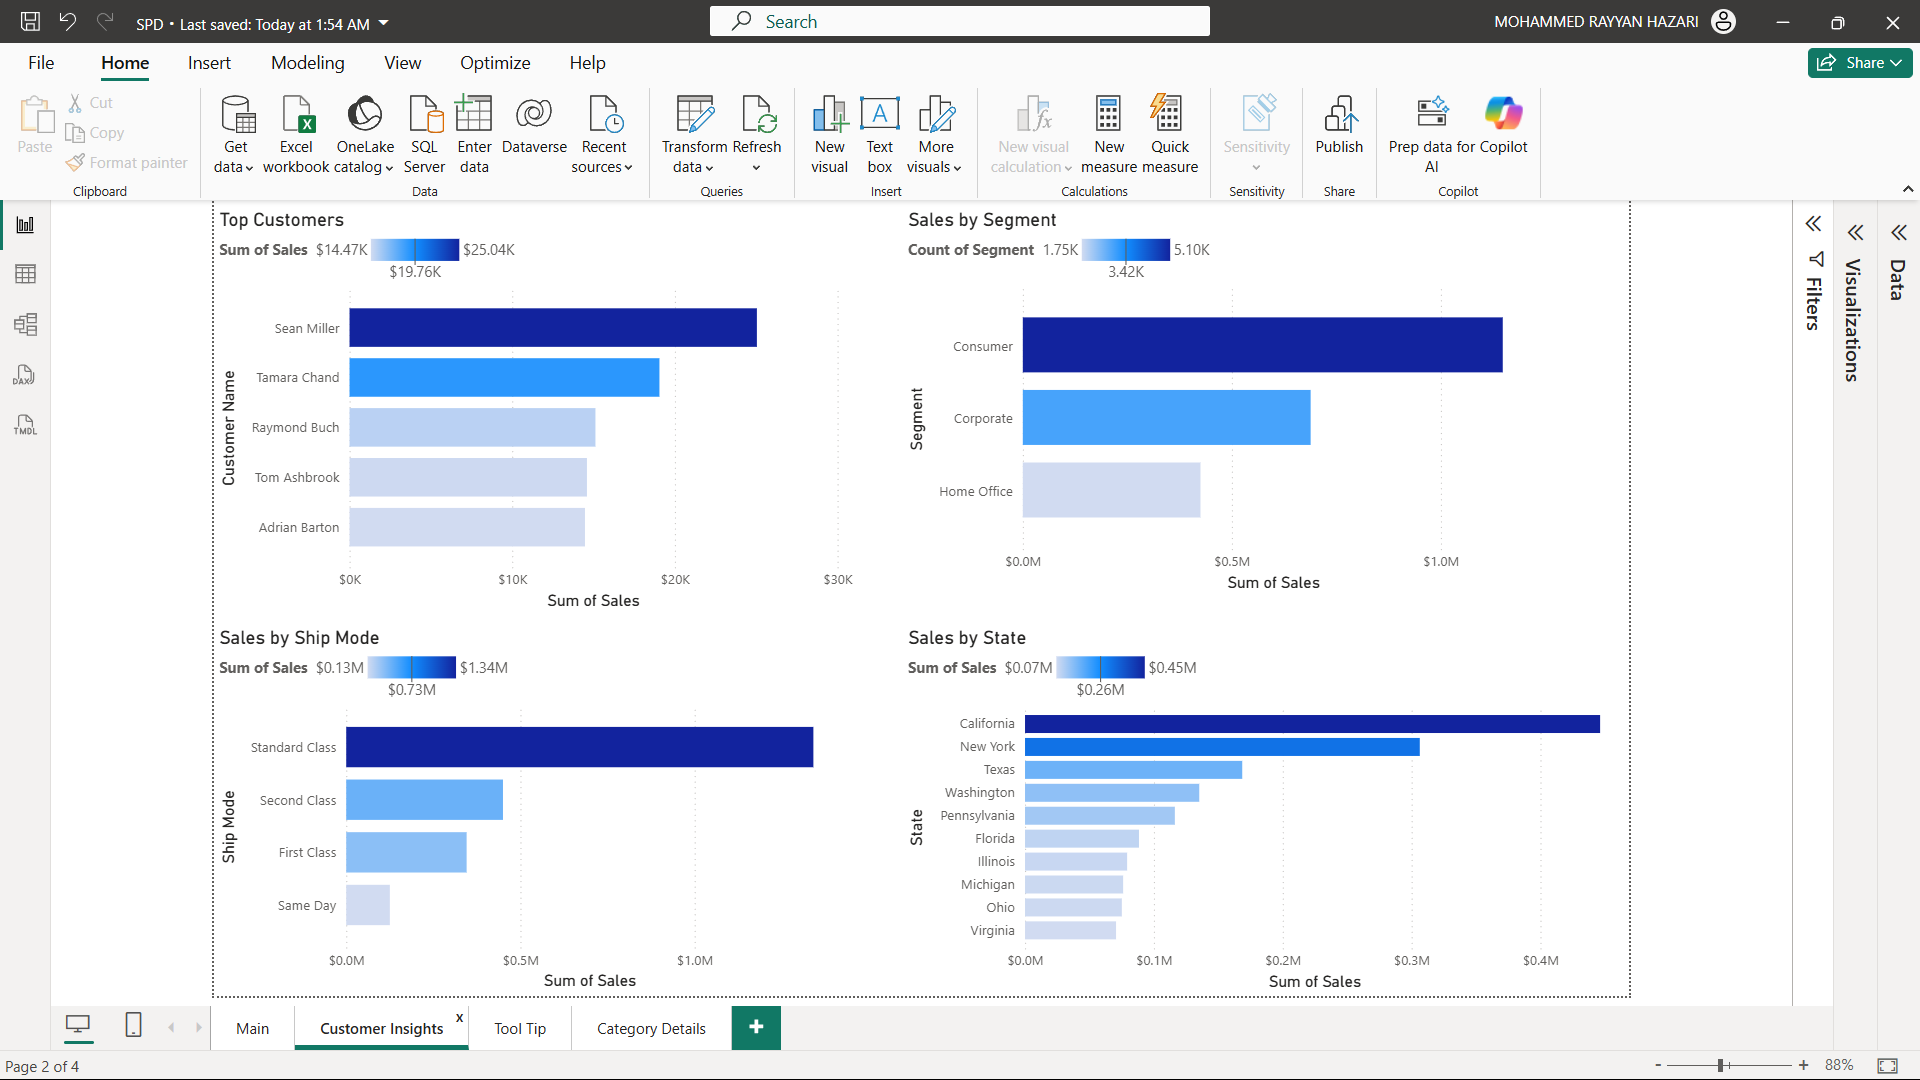

Layout of this report page (visuals, bound fields, positions):
{"tool":"powerbi","page":{"name":"Customer Insights","canvas":[1280,720],"ordinal":1},"visuals":[{"type":"clusteredBarChart","title":"Top Customers ","fields":{"Category":["train.Customer Name"],"Y":["Sum(train.Sales)"]},"box":[0,8.2,583.2,367.8],"z":0},{"type":"clusteredBarChart","title":"Sales by Segment","fields":{"Category":["train.Segment"],"Y":["Sum(train.Sales)"]},"box":[623,8.2,584.6,351.3],"z":1000},{"type":"clusteredBarChart","title":"Sales by Ship Mode","fields":{"Y":["Sum(train.Sales)"],"Category":["train.Ship Mode"]},"box":[0,386,583,334],"z":2000},{"type":"clusteredBarChart","title":"Sales by State","fields":{"Y":["Sum(train.Sales)"],"Category":["train.State"]},"box":[623,385.6,657.3,334.8],"z":3000}]}

Visuals, with their boxes on the page's 1280x720 design canvas (x1, y1, x2, y2). These are canvas units, not pixel positions in the 1920x1080 screenshot, which may show the page scaled, cropped or inside an application window:
"Top Customers " clusteredBarChart: box(0, 8, 583, 376)
"Sales by Segment" clusteredBarChart: box(623, 8, 1208, 360)
"Sales by Ship Mode" clusteredBarChart: box(0, 386, 583, 720)
"Sales by State" clusteredBarChart: box(623, 386, 1280, 720)
